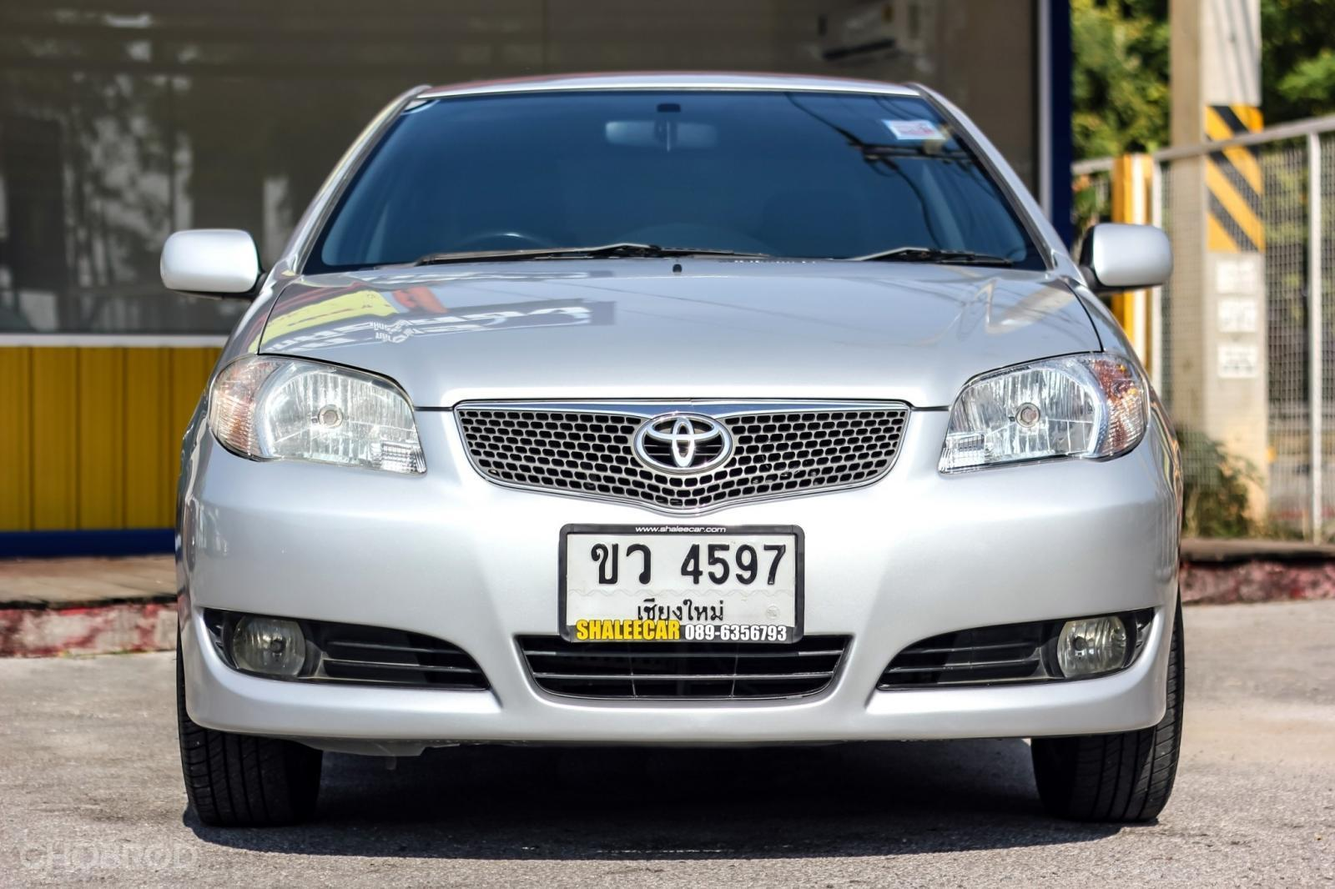license-plate: (555, 510, 807, 662)
